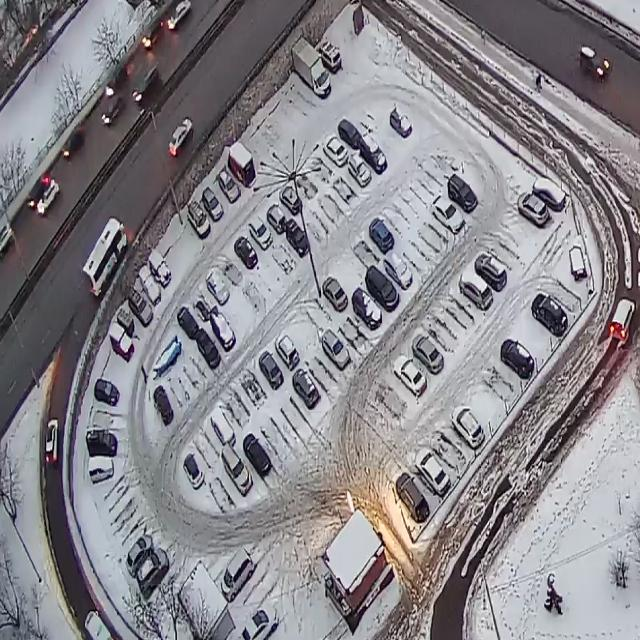car: (78, 214, 130, 300), (290, 36, 332, 100), (220, 541, 256, 608), (136, 546, 170, 606), (414, 446, 452, 498), (394, 472, 430, 524), (530, 289, 568, 337), (450, 402, 486, 452), (221, 444, 254, 498), (364, 265, 400, 313), (392, 353, 428, 399), (130, 58, 160, 113), (125, 528, 155, 582), (500, 336, 535, 382), (226, 140, 257, 190), (236, 604, 279, 640), (532, 172, 567, 214), (578, 42, 613, 84), (459, 270, 493, 313), (473, 251, 507, 293), (431, 194, 465, 236), (352, 286, 383, 332), (412, 332, 444, 376), (242, 432, 272, 478), (609, 293, 636, 344), (167, 114, 194, 164), (383, 248, 413, 292), (292, 366, 320, 413), (26, 169, 52, 219), (516, 191, 550, 229), (320, 328, 350, 371), (194, 325, 222, 371), (359, 132, 388, 176), (448, 172, 478, 214), (209, 308, 237, 353), (85, 425, 118, 462), (210, 406, 237, 450), (107, 322, 135, 364), (274, 331, 302, 372), (100, 89, 125, 134), (315, 37, 343, 77), (258, 349, 284, 392), (61, 121, 87, 164), (127, 287, 154, 328), (36, 176, 60, 222), (284, 217, 310, 259), (103, 58, 129, 99), (138, 265, 162, 309), (368, 216, 395, 255), (337, 115, 364, 154), (322, 275, 349, 314), (204, 267, 230, 307), (87, 453, 115, 490), (140, 15, 165, 55), (181, 451, 205, 492), (148, 249, 172, 290), (322, 133, 350, 168), (152, 384, 174, 428), (187, 200, 211, 240), (216, 167, 241, 205), (43, 417, 61, 468), (348, 150, 372, 188), (176, 305, 200, 343), (232, 235, 258, 270), (166, 0, 192, 35), (94, 378, 122, 409), (279, 181, 303, 217), (249, 216, 273, 250), (202, 186, 224, 223), (389, 106, 413, 139), (266, 202, 287, 236)
